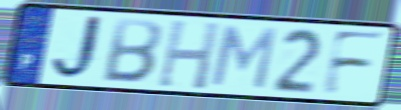2: (271, 27, 325, 96)
B: (98, 16, 164, 86)
F: (319, 28, 389, 97)
H: (155, 17, 223, 92)
J: (50, 14, 110, 83)
M: (207, 24, 280, 92)
